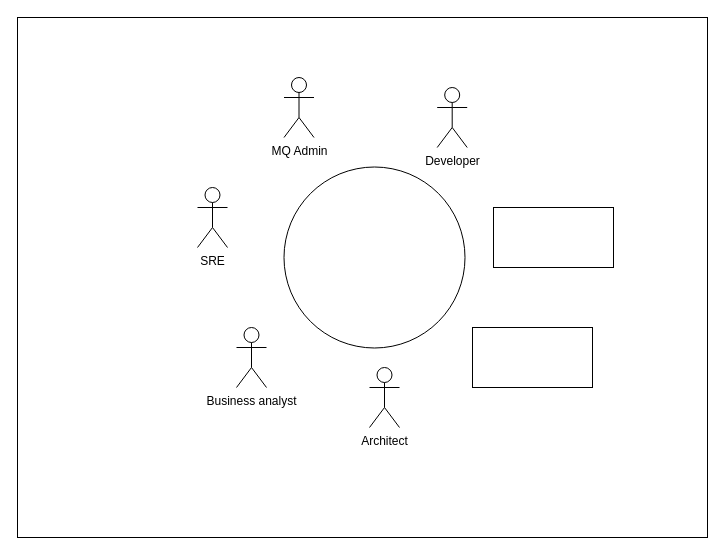
Some shapes in this 725 by 555 pixel diagram are drawn without their labels. The box of each missing label's shape, as (x1, y1, x2, y2) in pixels:
MQ application: (492, 206, 614, 268)
MQ deployment: (283, 166, 465, 348)
MQ-enabled systems: (472, 326, 592, 388)
